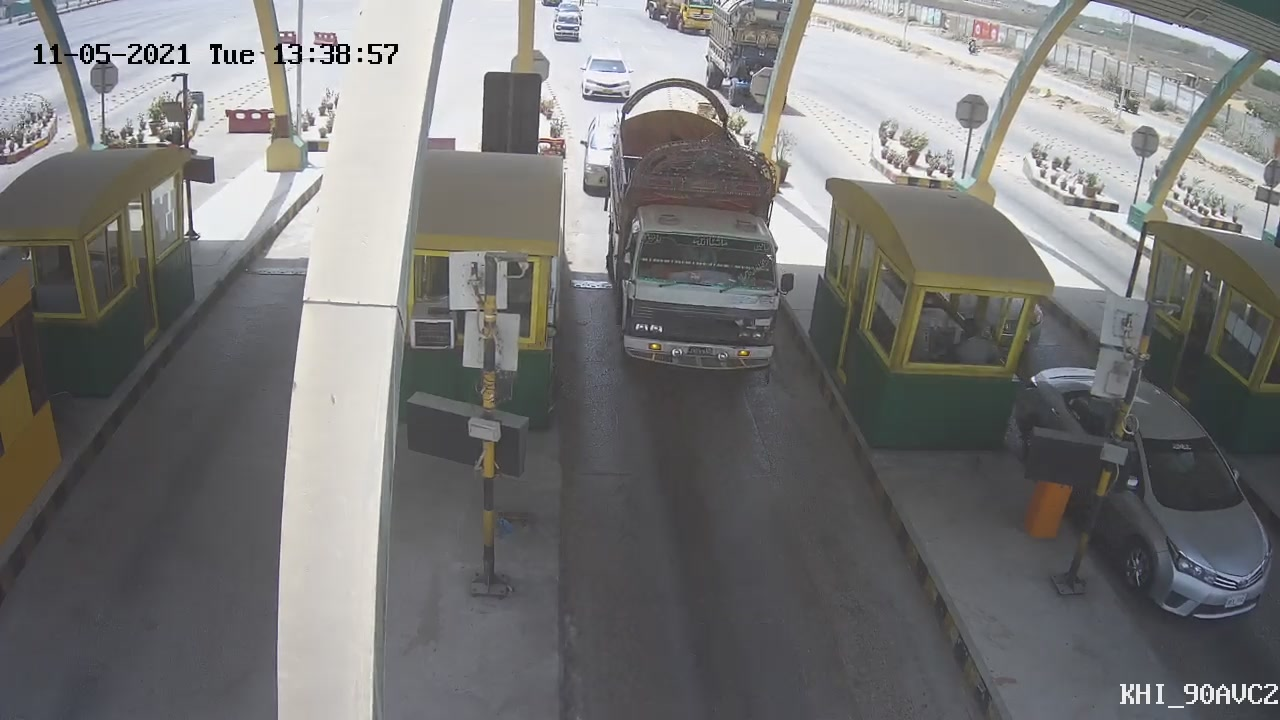F5: (598, 73, 796, 399)
